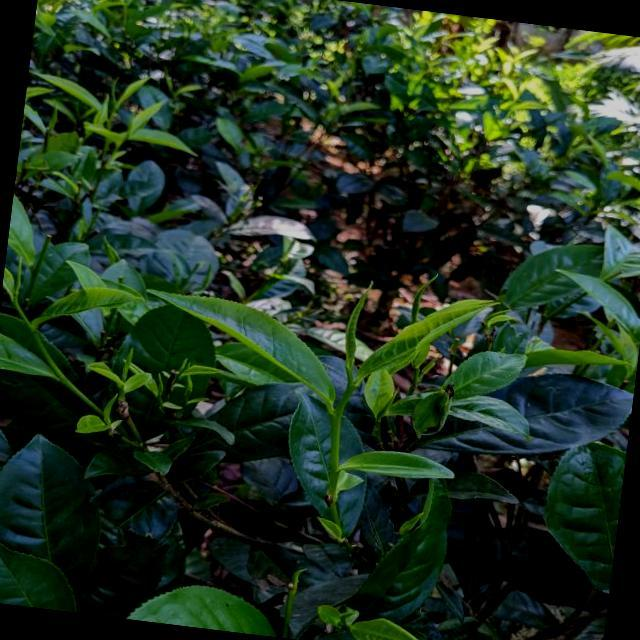Stem: (348, 385, 356, 392), (31, 325, 36, 332)
